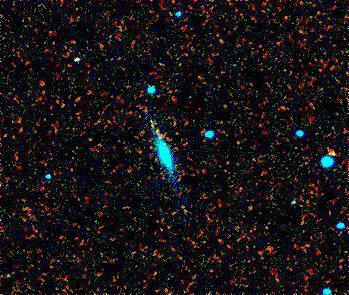star: (144, 117, 174, 147)
